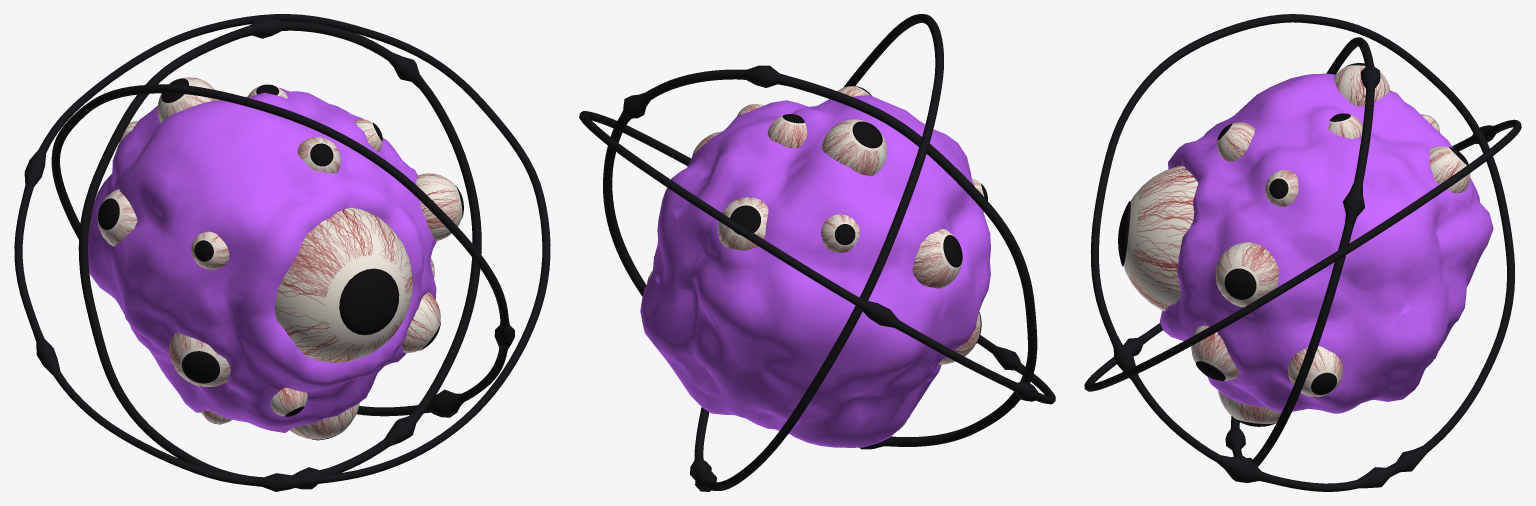
Rendered from Bakan.fbx.
3 renders of one model, left to right at view 1: azimuth 30°, elevation 25°; view 2: azimuth 150°, elevation 25°; view 3: azimuth 270°, elevation 25°, orthographic. The views are drawn at different scales.
Parts seen in each view (by area): view 1: Parilti, Halka3, AnaGoz, Halka1, Halka2, AnaIris, KucukGoz4, KucukGoz3, KucukGoz2, KucukGoz1, KucukGoz6, Iris2 (+4 smaller); view 2: Parilti, Halka1, Halka3, Halka2, KucukGoz5, KucukGoz6, KucukGoz7, KucukGoz10, KucukGoz15, Iris5, Iris7; view 3: Parilti, Halka2, AnaGoz, Halka3, Halka1, KucukGoz4, KucukGoz8, KucukGoz3, KucukGoz5, KucukGoz7, KucukGoz9, KucukGoz1 (+4 smaller).
Part boxes in pixels (<box>): Parilti: <box>88,88,436,432</box>; Halka3: <box>14,14,550,491</box>; AnaGoz: <box>274,208,412,363</box>; Halka1: <box>78,17,481,489</box>; Halka2: <box>51,84,514,417</box>; AnaIris: <box>339,268,399,335</box>; KucukGoz4: <box>416,173,462,241</box>; KucukGoz3: <box>402,292,440,353</box>; KucukGoz2: <box>169,333,230,386</box>; KucukGoz1: <box>289,402,359,439</box>; KucukGoz6: <box>97,189,137,246</box>; Iris2: <box>182,351,219,383</box>; Parilti: <box>640,95,990,447</box>; Halka1: <box>603,65,1037,449</box>; Halka3: <box>579,111,1055,404</box>; Halka2: <box>690,14,943,491</box>; KucukGoz5: <box>821,119,887,176</box>; KucukGoz6: <box>912,229,961,288</box>; KucukGoz7: <box>717,197,768,250</box>; KucukGoz10: <box>767,116,807,148</box>; KucukGoz15: <box>821,214,859,252</box>; Iris5: <box>852,121,882,148</box>; Iris7: <box>730,205,760,234</box>; Parilti: <box>1159,73,1493,413</box>; Halka2: <box>1090,14,1514,491</box>; AnaGoz: <box>1123,165,1198,311</box>; Halka3: <box>1084,119,1521,391</box>; Halka1: <box>1225,37,1380,466</box>; KucukGoz4: <box>1215,242,1278,307</box>; KucukGoz8: <box>1288,346,1342,396</box>; KucukGoz3: <box>1191,325,1238,380</box>; KucukGoz5: <box>1333,65,1389,106</box>; KucukGoz7: <box>1429,146,1470,193</box>; KucukGoz9: <box>1217,122,1255,161</box>; KucukGoz1: <box>1218,390,1281,423</box>.
Size of the model in its own units: 8.03 by 7.07 by 7.1.
6 materials, 1 textured.
